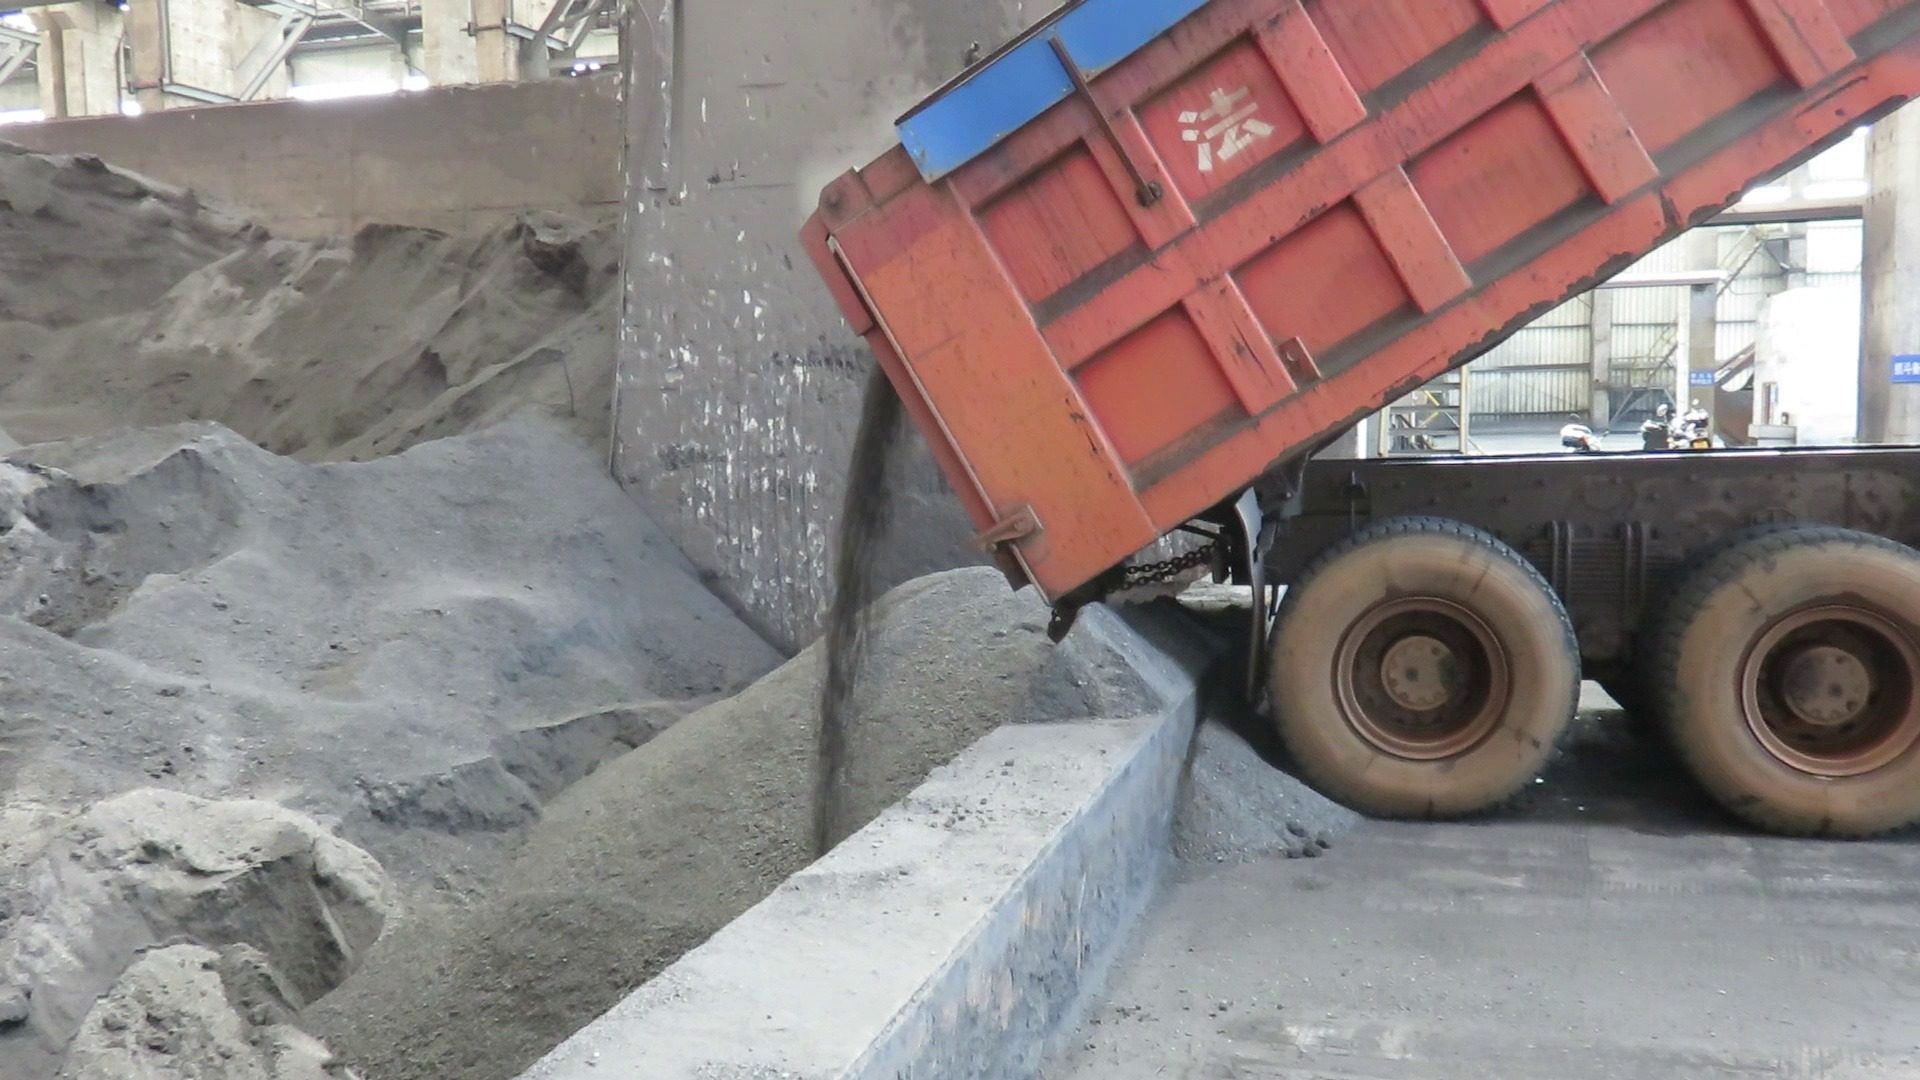dust: (787, 73, 928, 211)
truck: (781, 0, 1920, 837)
